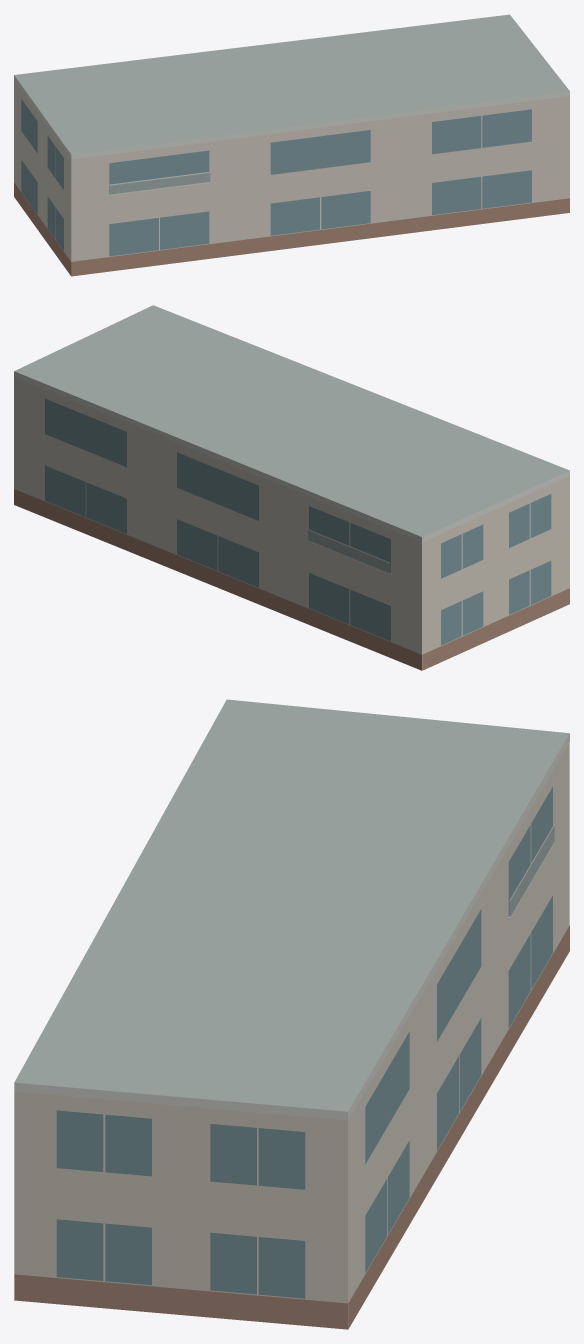
Rendered from survey-upis-32787291.glb.
3 views of the same model, one above another, from view 1: azimuth 30°, elevation 25°; view 2: azimuth 150°, elevation 25°; view 3: azimuth 270°, elevation 25° (orthographic). The views are drawn at different scales.
Visible parts, largest first — view 1: survey-upis-32787291.tmp; view 2: survey-upis-32787291.tmp; view 3: survey-upis-32787291.tmp.
Part boxes in pixels (x1,y1,x2,y2): survey-upis-32787291.tmp: [14, 14, 569, 276]; survey-upis-32787291.tmp: [14, 305, 569, 670]; survey-upis-32787291.tmp: [14, 699, 569, 1329].
Bounding box in the file's own units: 24.78 × 6.1 × 14.11.
